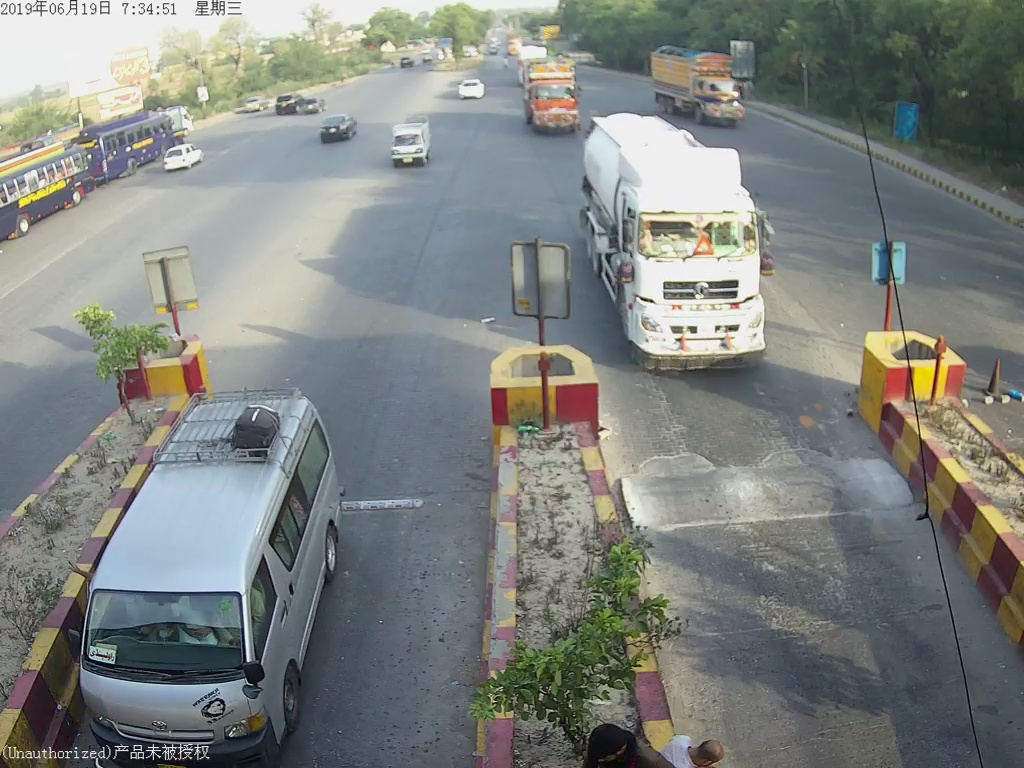Cat-1: (385, 124, 434, 174)
Cat-2: (87, 444, 326, 737)
Cat-4: (585, 115, 768, 376)
